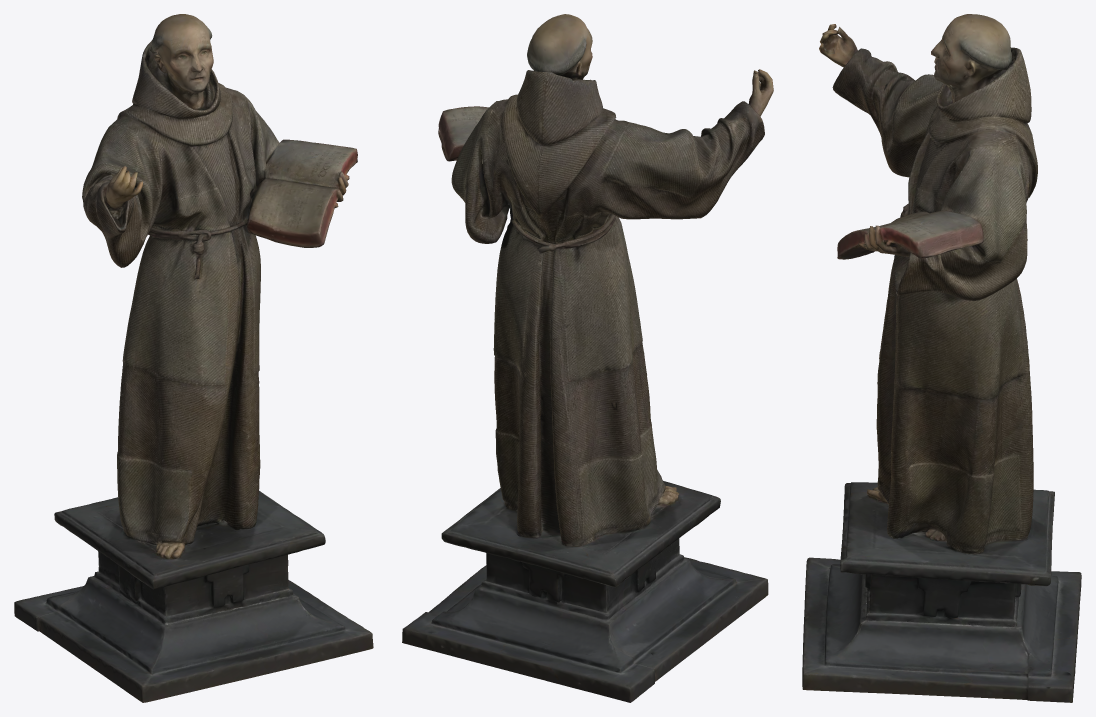
Rendered from preview.glb.
3 views of the same model, side by side, from view 1: azimuth 30°, elevation 25°; view 2: azimuth 150°, elevation 25°; view 3: azimuth 270°, elevation 25° (orthographic). The views are drawn at different scales.
Visible parts, largest first — view 1: Object_2; view 2: Object_2; view 3: Object_2.
Boxes of the visible parts, bbox=[...] form: Object_2: bbox=[14, 14, 373, 702]; Object_2: bbox=[402, 14, 773, 702]; Object_2: bbox=[802, 14, 1081, 702].
Bounding box in the file's own units: 0.3862 × 0.7817 × 0.3141.
2 materials, 2 textured.
